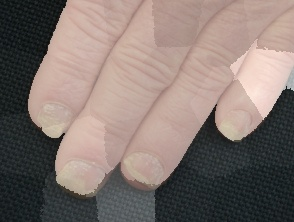Nail_psoriasis: (46, 141, 118, 211), (114, 137, 178, 197), (25, 87, 83, 145), (211, 99, 263, 149)
